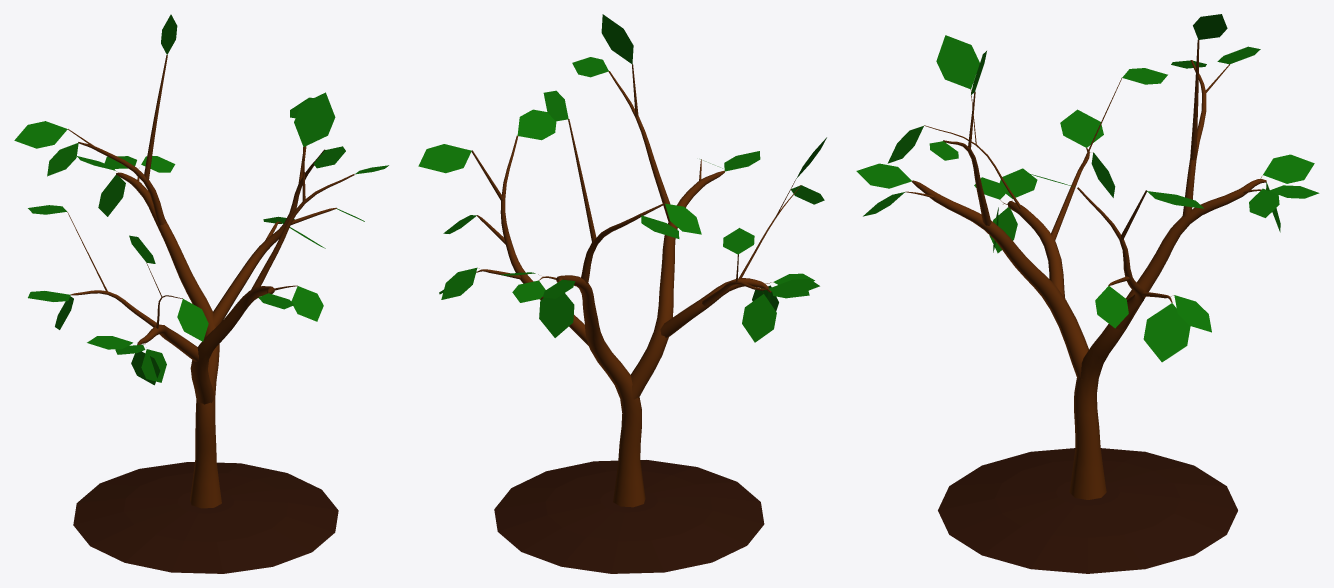
The model's file is Stage1.glb.
3 renders of one model, left to right at view 1: azimuth 30°, elevation 25°; view 2: azimuth 150°, elevation 25°; view 3: azimuth 270°, elevation 25°, orthographic. The views are drawn at different scales.
Visible parts, largest first — view 1: Cone, stage1, leaves.002; view 2: Cone, stage1, leaves.002; view 3: Cone, stage1, leaves.002.
Part boxes in pixels (x1,y1,x2,y2): Cone: (73, 462, 338, 573); stage1: (67, 55, 354, 508); leaves.002: (14, 14, 388, 385); Cone: (494, 460, 764, 573); stage1: (471, 64, 801, 507); leaves.002: (418, 14, 826, 342); Cone: (938, 448, 1237, 573); stage1: (905, 40, 1266, 499); leaves.002: (856, 14, 1319, 362).
Size of the model in its own units: 0.7849 by 0.9768 by 0.793.
